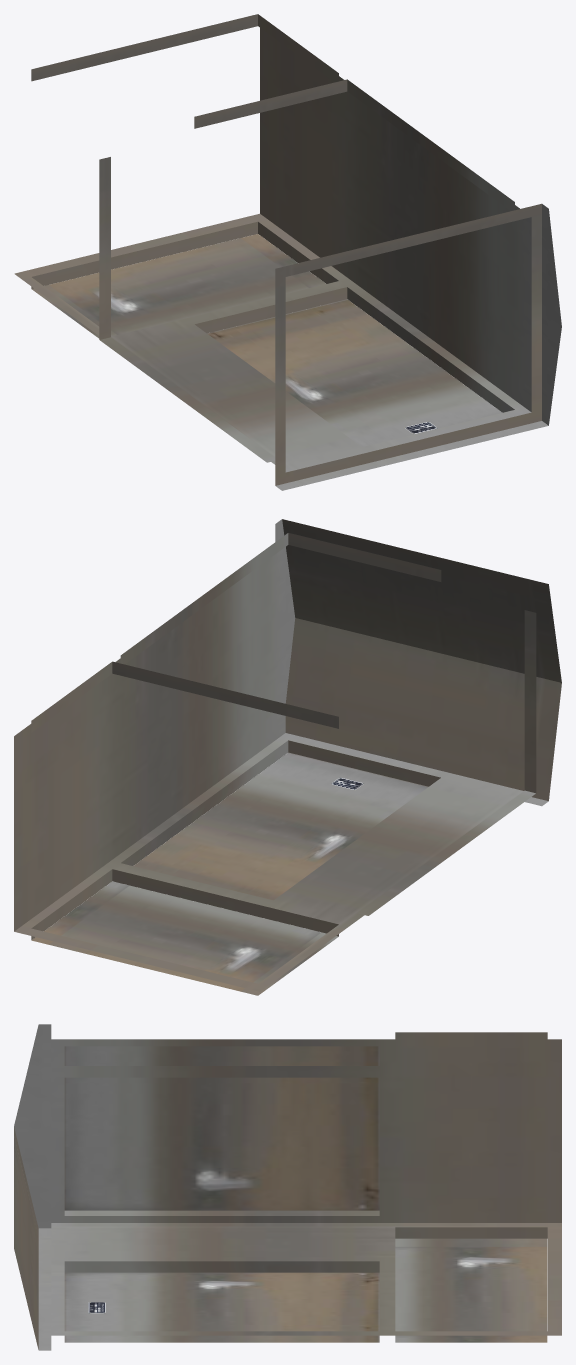
Rendered from ftzbzsb-dzx-186-geode.glb.
3 renders of one model, top to bottom at view 1: azimuth 30°, elevation 25°; view 2: azimuth 150°, elevation 25°; view 3: azimuth 270°, elevation 25°, orthographic. The views are drawn at different scales.
Visible parts, largest first — view 1: Node; view 2: Node; view 3: Node.
Part boxes in pixels (x1,y1,x2,y2): Node: (14, 14, 561, 490); Node: (14, 519, 561, 995); Node: (14, 1024, 561, 1350).
Size of the model in its own units: 0.9316 by 0.7302 by 1.76.
Materials: 3 (3 with a texture image).
